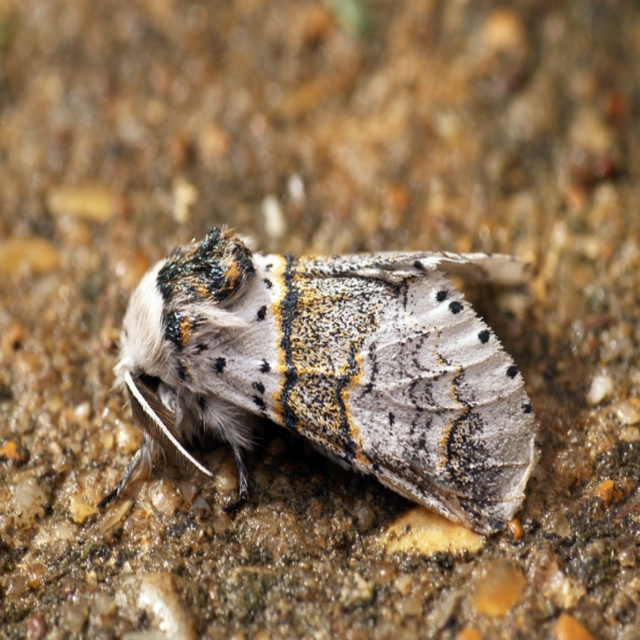Moths and butterflies: (78, 222, 545, 546)
